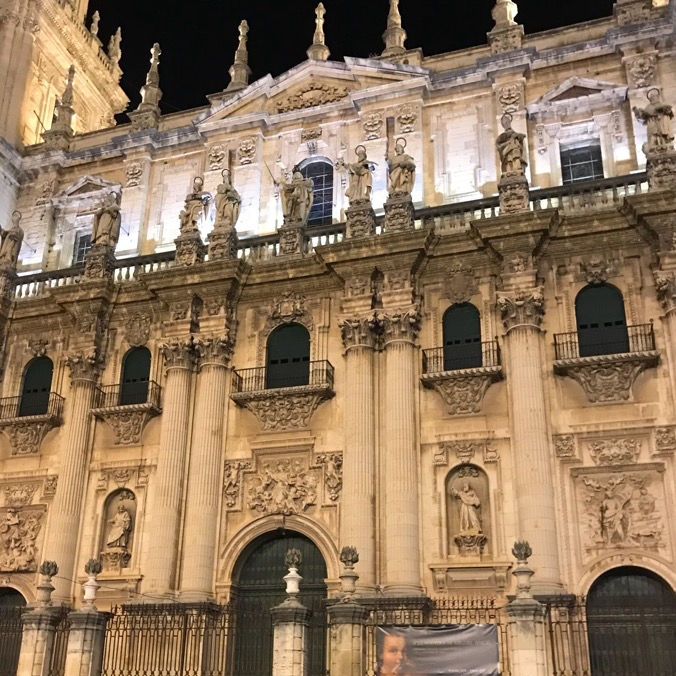arco-medio-punto: (221, 513, 334, 596), (574, 554, 676, 619), (572, 278, 627, 307), (263, 318, 309, 345), (440, 298, 485, 325), (291, 153, 333, 180), (19, 353, 56, 380), (117, 342, 154, 368)
fronton: (527, 75, 620, 112), (52, 169, 120, 206)
fronton-partido: (191, 55, 438, 125)
vano-adintelado: (545, 120, 610, 190)
